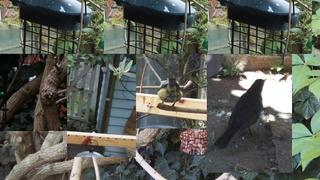blackbird: (214, 78, 268, 149)
blue tit: (157, 78, 183, 111)
